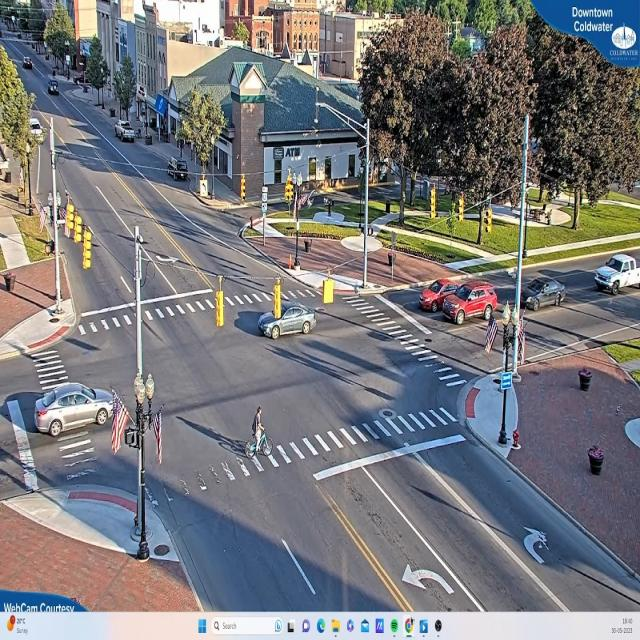bicycle: (242, 405, 274, 458)
car: (27, 382, 128, 439), (256, 301, 316, 343), (443, 282, 502, 318), (519, 275, 567, 312), (594, 255, 637, 294), (416, 277, 448, 316), (166, 159, 188, 180), (116, 123, 136, 143)
